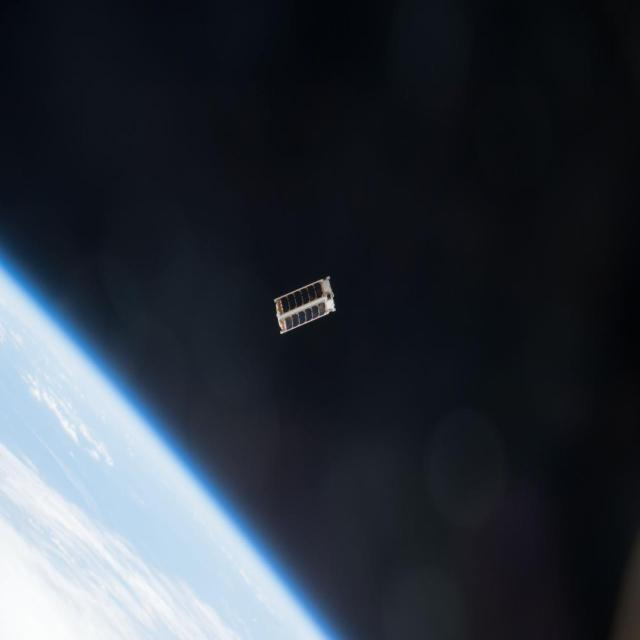medium_debris: (276, 278, 334, 333)
